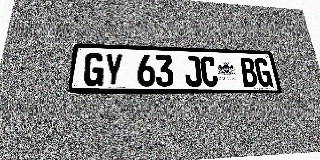3: (155, 55, 173, 87)
6: (137, 54, 155, 87)
B: (239, 57, 259, 87)
C: (199, 56, 219, 87)
G: (83, 52, 104, 87), (253, 58, 273, 87)
J: (183, 56, 202, 87)
Y: (103, 53, 123, 87)
